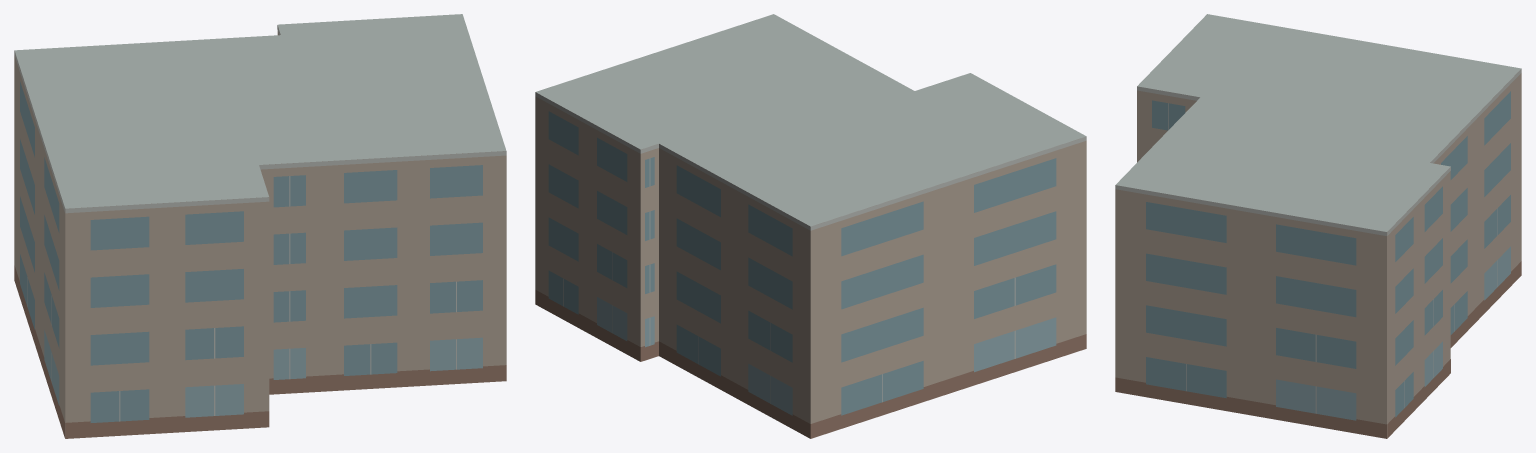
File: residential-7b97c301-239d-4b0c-aead-3e23bcfee338.glb
3 renders of one model, left to right at view 1: azimuth 30°, elevation 25°; view 2: azimuth 150°, elevation 25°; view 3: azimuth 270°, elevation 25°, orthographic. The views are drawn at different scales.
Visible parts, largest first — view 1: residential-7b97c301-239d-4b0c-aead-3e23bcfee338.tmp; view 2: residential-7b97c301-239d-4b0c-aead-3e23bcfee338.tmp; view 3: residential-7b97c301-239d-4b0c-aead-3e23bcfee338.tmp.
Boxes of the visible parts, bbox=[...] form: residential-7b97c301-239d-4b0c-aead-3e23bcfee338.tmp: bbox=[14, 14, 506, 438]; residential-7b97c301-239d-4b0c-aead-3e23bcfee338.tmp: bbox=[535, 14, 1086, 438]; residential-7b97c301-239d-4b0c-aead-3e23bcfee338.tmp: bbox=[1115, 14, 1521, 438].
Size of the model in its own units: 27.6 by 12.2 by 21.73.
